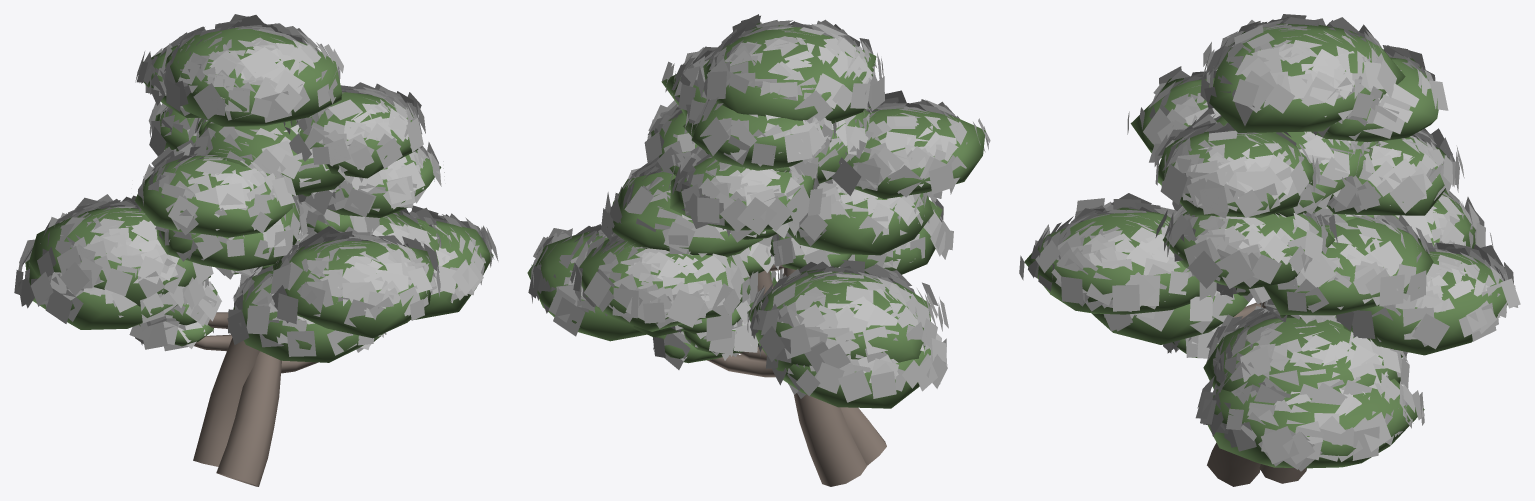
Rendered from pine.glb.
The picture shows the model from 3 angles, left to right: view 1: azimuth 30°, elevation 25°; view 2: azimuth 150°, elevation 25°; view 3: azimuth 270°, elevation 25°; orthographic projection. The views are drawn at different scales.
Parts seen in each view (by area): view 1: PineA_needles, PineA, PineB_needles, PineB; view 2: PineA_needles, PineB_needles, PineA, PineB; view 3: PineA_needles, PineB_needles, PineA, PineB.
Part boxes in pixels (box(x1,y1,x2,y2)): PineA_needles: box(37, 14, 450, 327); PineA: box(29, 27, 439, 466); PineB_needles: box(14, 103, 498, 356); PineB: box(25, 110, 493, 486); PineA_needles: box(571, 14, 990, 372); PineB_needles: box(528, 100, 953, 402); PineA: box(603, 23, 985, 486); PineB: box(527, 109, 942, 465); PineA_needles: box(1019, 14, 1485, 405); PineB_needles: box(1103, 108, 1520, 471); PineA: box(1024, 23, 1475, 483); PineB: box(1092, 116, 1507, 486).
Size of the model in its own units: 5.16 by 4.92 by 4.8.
